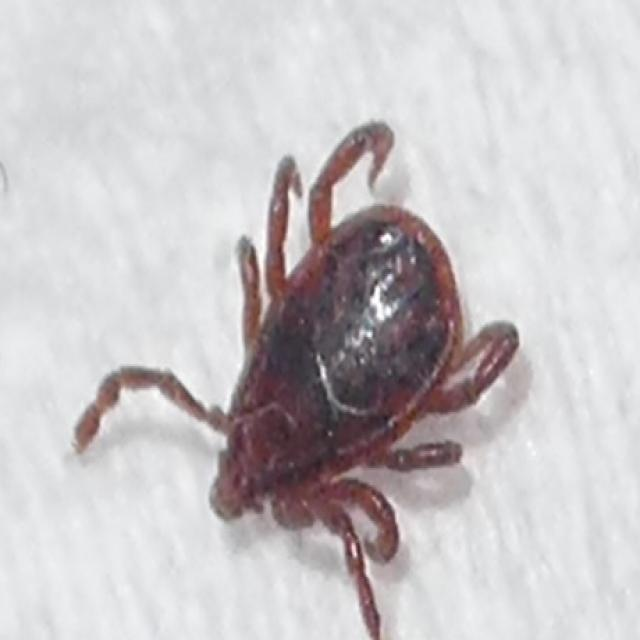Rhipicephalus Sanguineus-M: (75, 119, 520, 640)
